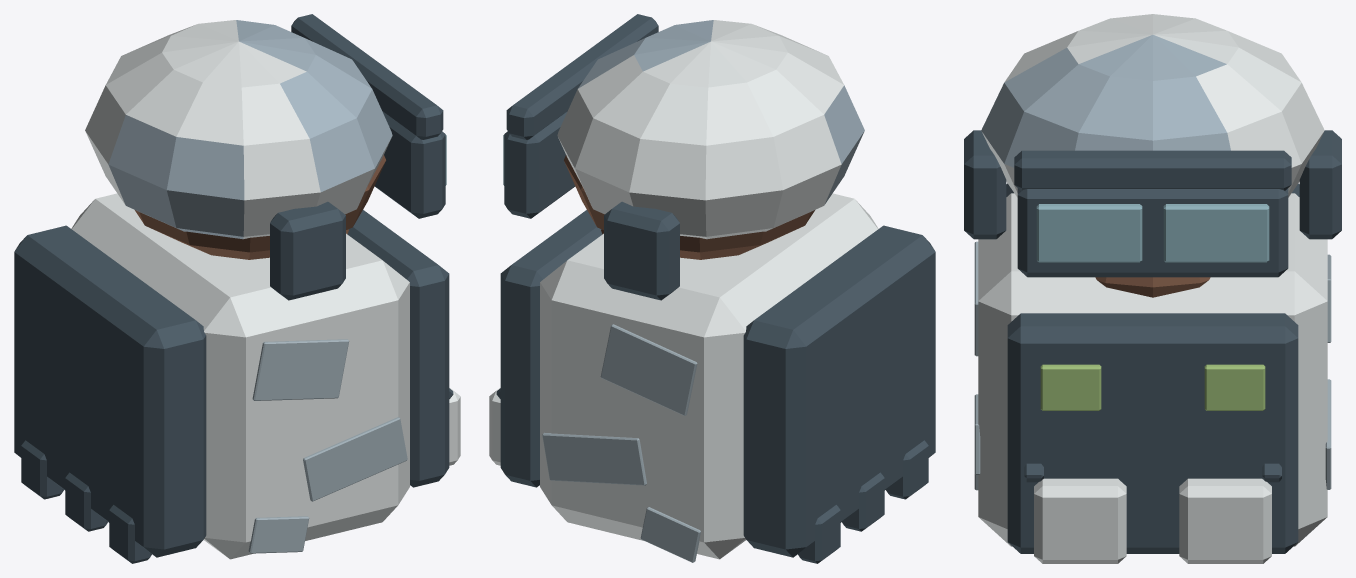
Rendered from woodland-scout.polar-camo.glb.
3 renders of one model, left to right at view 1: azimuth 30°, elevation 25°; view 2: azimuth 150°, elevation 25°; view 3: azimuth 270°, elevation 25°, orthographic. The views are drawn at different scales.
Visible parts, largest first — view 1: woodland-scout_polar-camo__main__torso_finish_485863_0.03, woodland-scout_polar-camo__main__torso_finish_e0e5e5_0.03, woodland-scout_polar-camo__main__head_finish_e0e5e5_0.03|fin, woodland-scout_polar-camo__main__head_finish_485863_0.03, woodland-scout_polar-camo__main__torso_finish_a0afb7_0.03, woodland-scout_polar-camo__main__head_finish_805b47_0.03; view 2: woodland-scout_polar-camo__main__torso_finish_485863_0.03, woodland-scout_polar-camo__main__torso_finish_e0e5e5_0.03, woodland-scout_polar-camo__main__head_finish_e0e5e5_0.03|fin, woodland-scout_polar-camo__main__head_finish_485863_0.03, woodland-scout_polar-camo__main__torso_finish_a0afb7_0.03, woodland-scout_polar-camo__main__head_finish_805b47_0.03; view 3: woodland-scout_polar-camo__main__torso_finish_485863_0.03, woodland-scout_polar-camo__main__torso_finish_e0e5e5_0.03, woodland-scout_polar-camo__main__head_finish_e0e5e5_0.03|fin, woodland-scout_polar-camo__main__head_finish_485863_0.03, woodland-scout_polar-camo__main__head_finish_91b6c0_0.03, woodland-scout_polar-camo__main__torso_finish_a3c47c_0.03, woodland-scout_polar-camo__main__torso_finish_a0afb7_0.03, woodland-scout_polar-camo__main__head_finish_805b47_0.03.
Boxes of the visible parts, box(x1,y1,x2,y2) form: woodland-scout_polar-camo__main__torso_finish_485863_0.03: box(14, 210, 453, 563); woodland-scout_polar-camo__main__torso_finish_e0e5e5_0.03: box(71, 193, 460, 559); woodland-scout_polar-camo__main__head_finish_e0e5e5_0.03|fin: box(85, 20, 392, 239); woodland-scout_polar-camo__main__head_finish_485863_0.03: box(270, 14, 445, 300); woodland-scout_polar-camo__main__torso_finish_a0afb7_0.03: box(248, 339, 407, 553); woodland-scout_polar-camo__main__head_finish_805b47_0.03: box(135, 155, 385, 259); woodland-scout_polar-camo__main__torso_finish_485863_0.03: box(496, 210, 935, 563); woodland-scout_polar-camo__main__torso_finish_e0e5e5_0.03: box(489, 193, 878, 559); woodland-scout_polar-camo__main__head_finish_e0e5e5_0.03|fin: box(557, 20, 864, 239); woodland-scout_polar-camo__main__head_finish_485863_0.03: box(504, 14, 679, 300); woodland-scout_polar-camo__main__torso_finish_a0afb7_0.03: box(542, 324, 700, 562); woodland-scout_polar-camo__main__head_finish_805b47_0.03: box(564, 155, 814, 259); woodland-scout_polar-camo__main__torso_finish_485863_0.03: box(1006, 183, 1299, 553); woodland-scout_polar-camo__main__torso_finish_e0e5e5_0.03: box(978, 193, 1327, 563); woodland-scout_polar-camo__main__head_finish_e0e5e5_0.03|fin: box(981, 14, 1324, 197); woodland-scout_polar-camo__main__head_finish_485863_0.03: box(964, 130, 1341, 277); woodland-scout_polar-camo__main__head_finish_91b6c0_0.03: box(1036, 204, 1269, 262); woodland-scout_polar-camo__main__torso_finish_a3c47c_0.03: box(1040, 364, 1265, 410); woodland-scout_polar-camo__main__torso_finish_a0afb7_0.03: box(974, 241, 1331, 490); woodland-scout_polar-camo__main__head_finish_805b47_0.03: box(1095, 277, 1210, 297).
Size of the model in its own units: 30.65 by 39.5 by 28.6.
